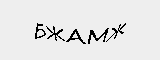А: (67, 28, 87, 45)
Б: (34, 23, 46, 41)
Ж: (46, 22, 65, 44), (109, 23, 125, 40)
М: (88, 27, 107, 46)
